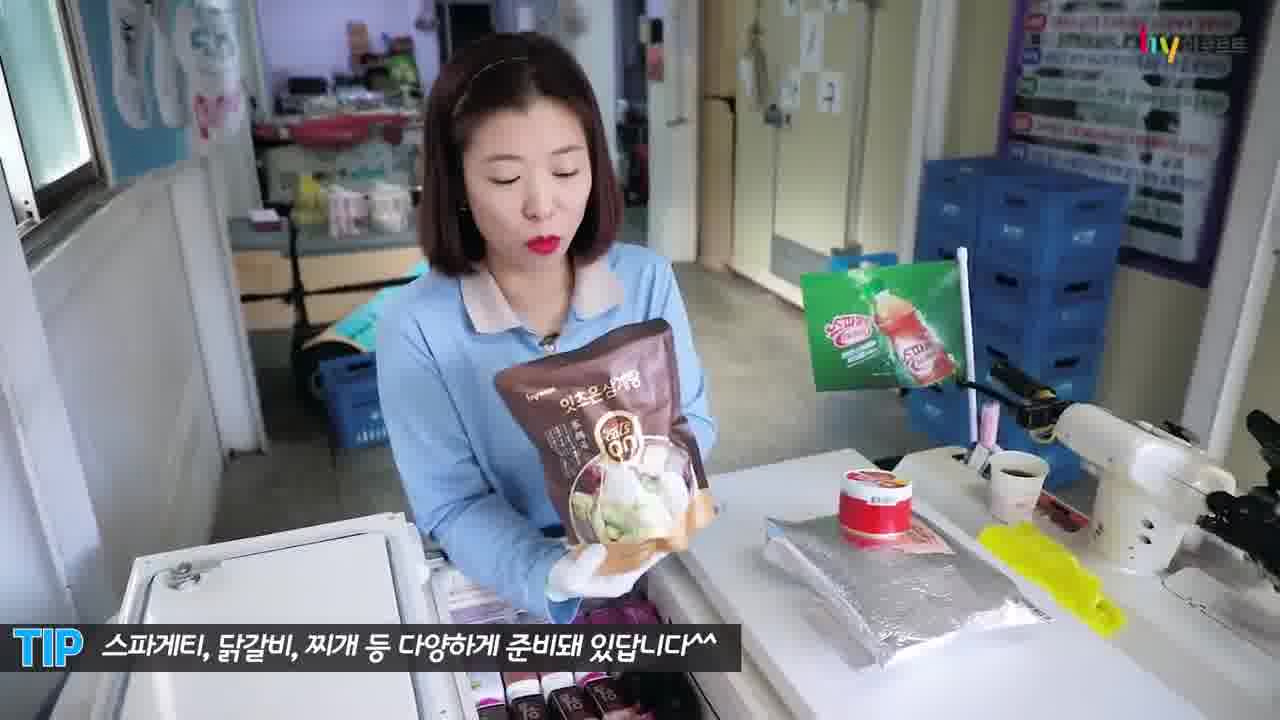Yakurut: (356, 30, 741, 629)
